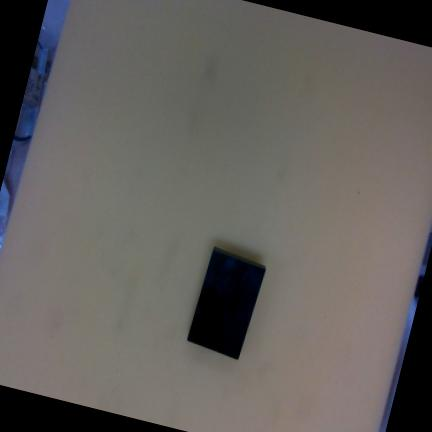tile: (182, 251, 266, 361)
